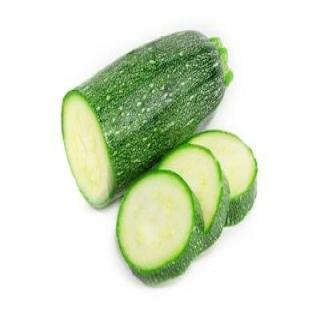Zucchini: (62, 32, 232, 207), (116, 171, 203, 284), (158, 144, 229, 249), (190, 131, 257, 225)
